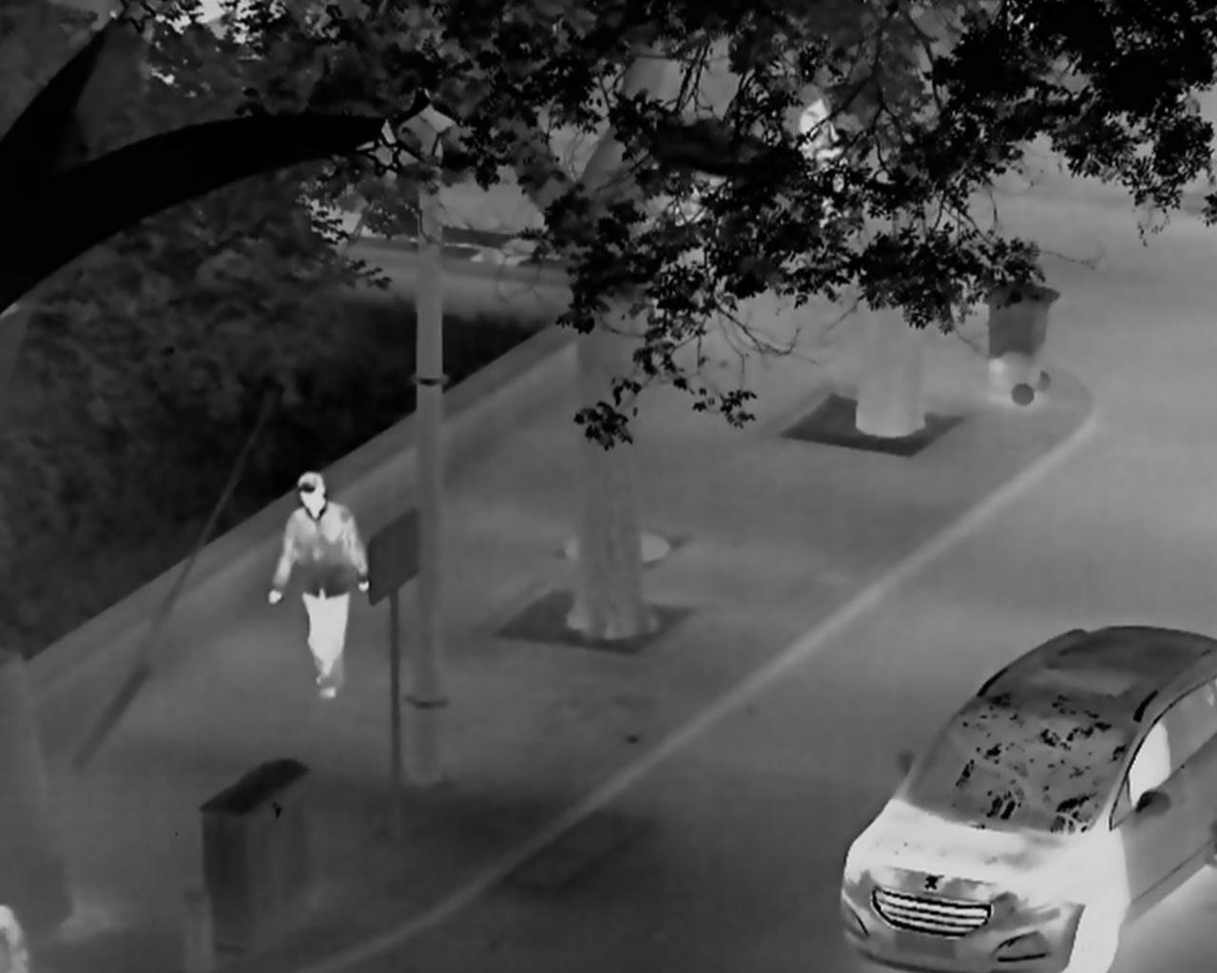person: (264, 471, 374, 702), (798, 87, 865, 238)
